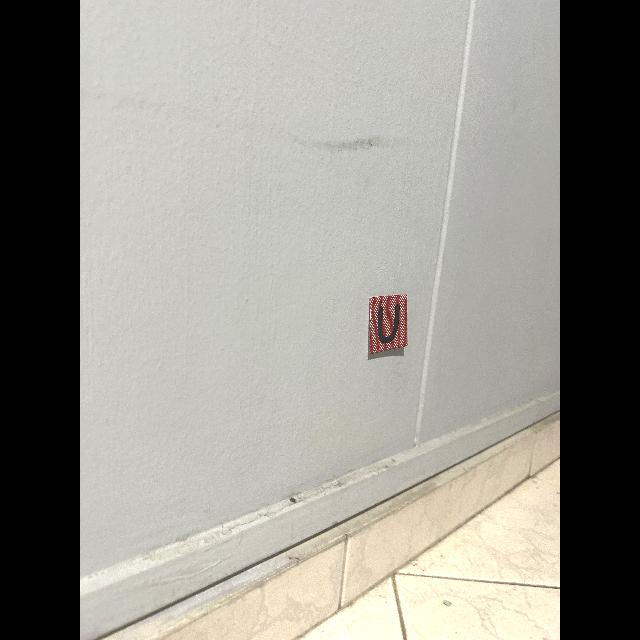U: (378, 304, 400, 343)
